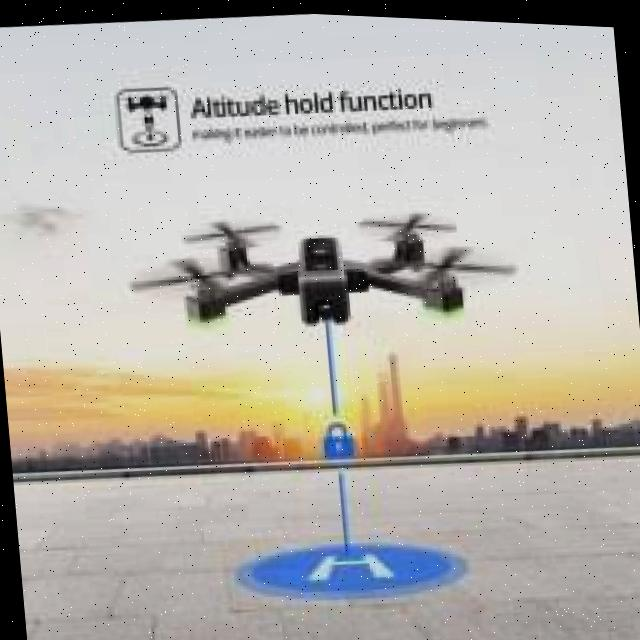drone: (120, 173, 512, 367)
